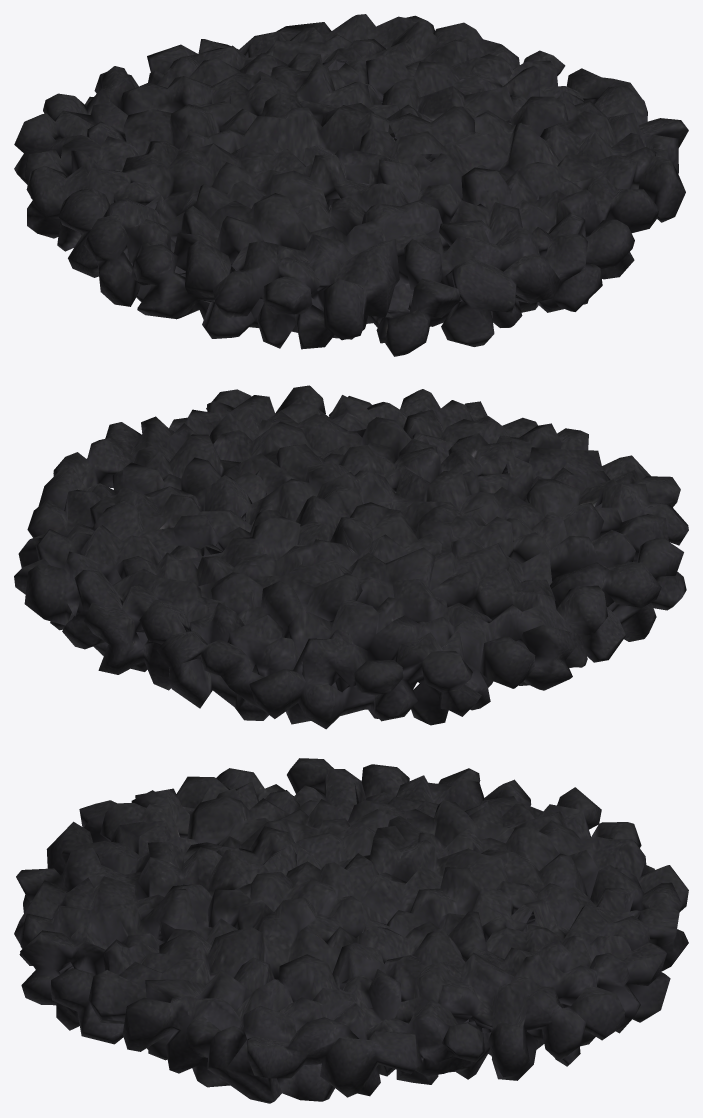
File: Frijol_Crudo.fbx
The picture shows the model from 3 angles, top to bottom: view 1: azimuth 30°, elevation 25°; view 2: azimuth 150°, elevation 25°; view 3: azimuth 270°, elevation 25°; orthographic projection. The views are drawn at different scales.
Parts seen in each view (by area): view 1: Mesh_0; view 2: Mesh_0; view 3: Mesh_0.
Part boxes in pixels (x1=…): Mesh_0: x1=14, y1=14, x2=688, y2=356; Mesh_0: x1=14, y1=385, x2=688, y2=729; Mesh_0: x1=14, y1=758, x2=688, y2=1103.
Bounding box in the file's own units: 189 × 39.19 × 186.
Materials: 1 (1 with a texture image).
